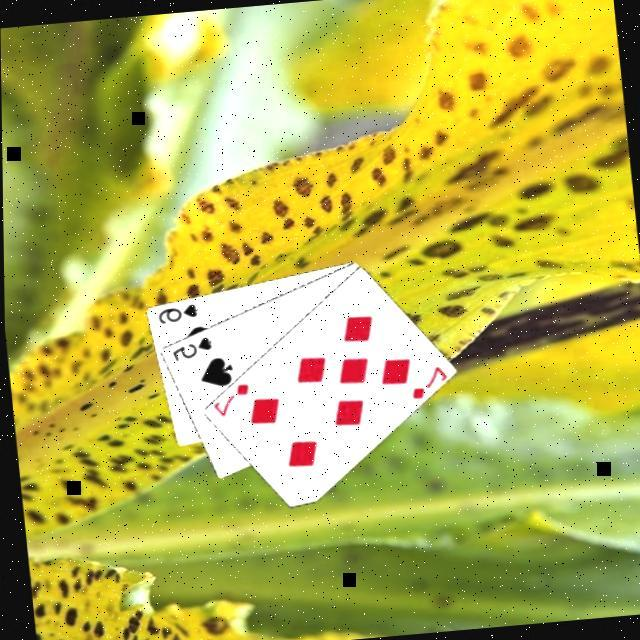5S: (168, 332, 215, 364)
6S: (154, 300, 202, 328)
7D: (208, 379, 254, 421), (406, 362, 451, 404)
